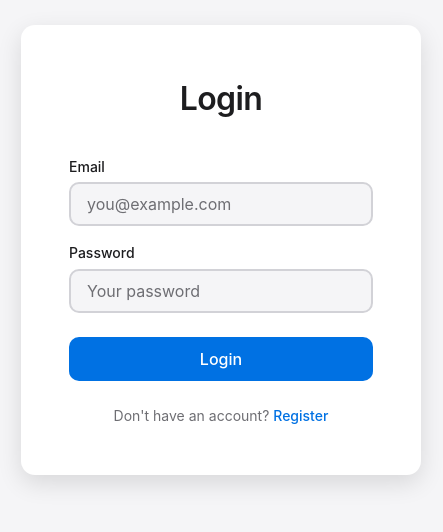
Test case: LoginPage › shows error on invalid credentials
In the field labelled "Email": (221, 204) [69,182,373,226], type "test@test.com"
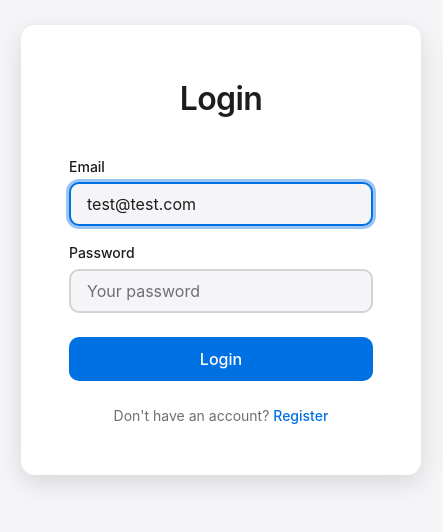
In the password field labelled "Password": (221, 291) [69,269,373,313], type "wrongpass"
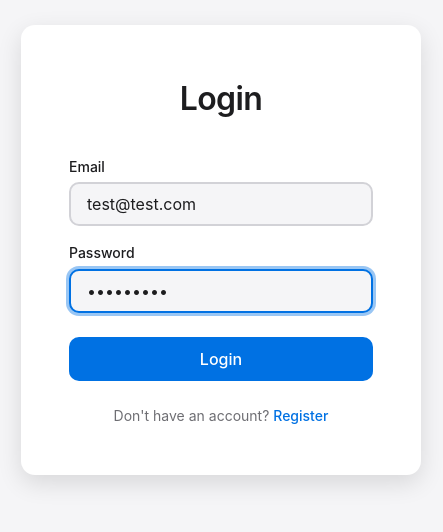
Click the button "Login": (221, 359) [69,337,373,381]
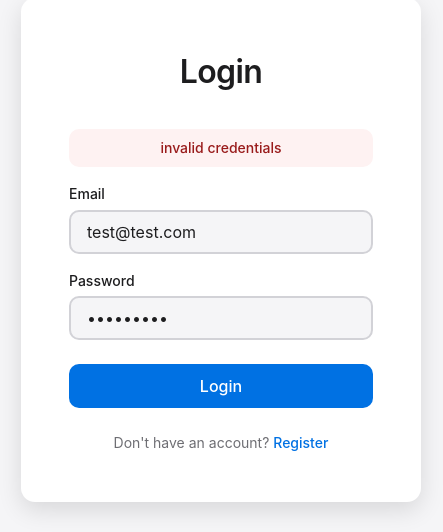
expect the message reads "invalid credentials": met, box [160,139,282,156]
